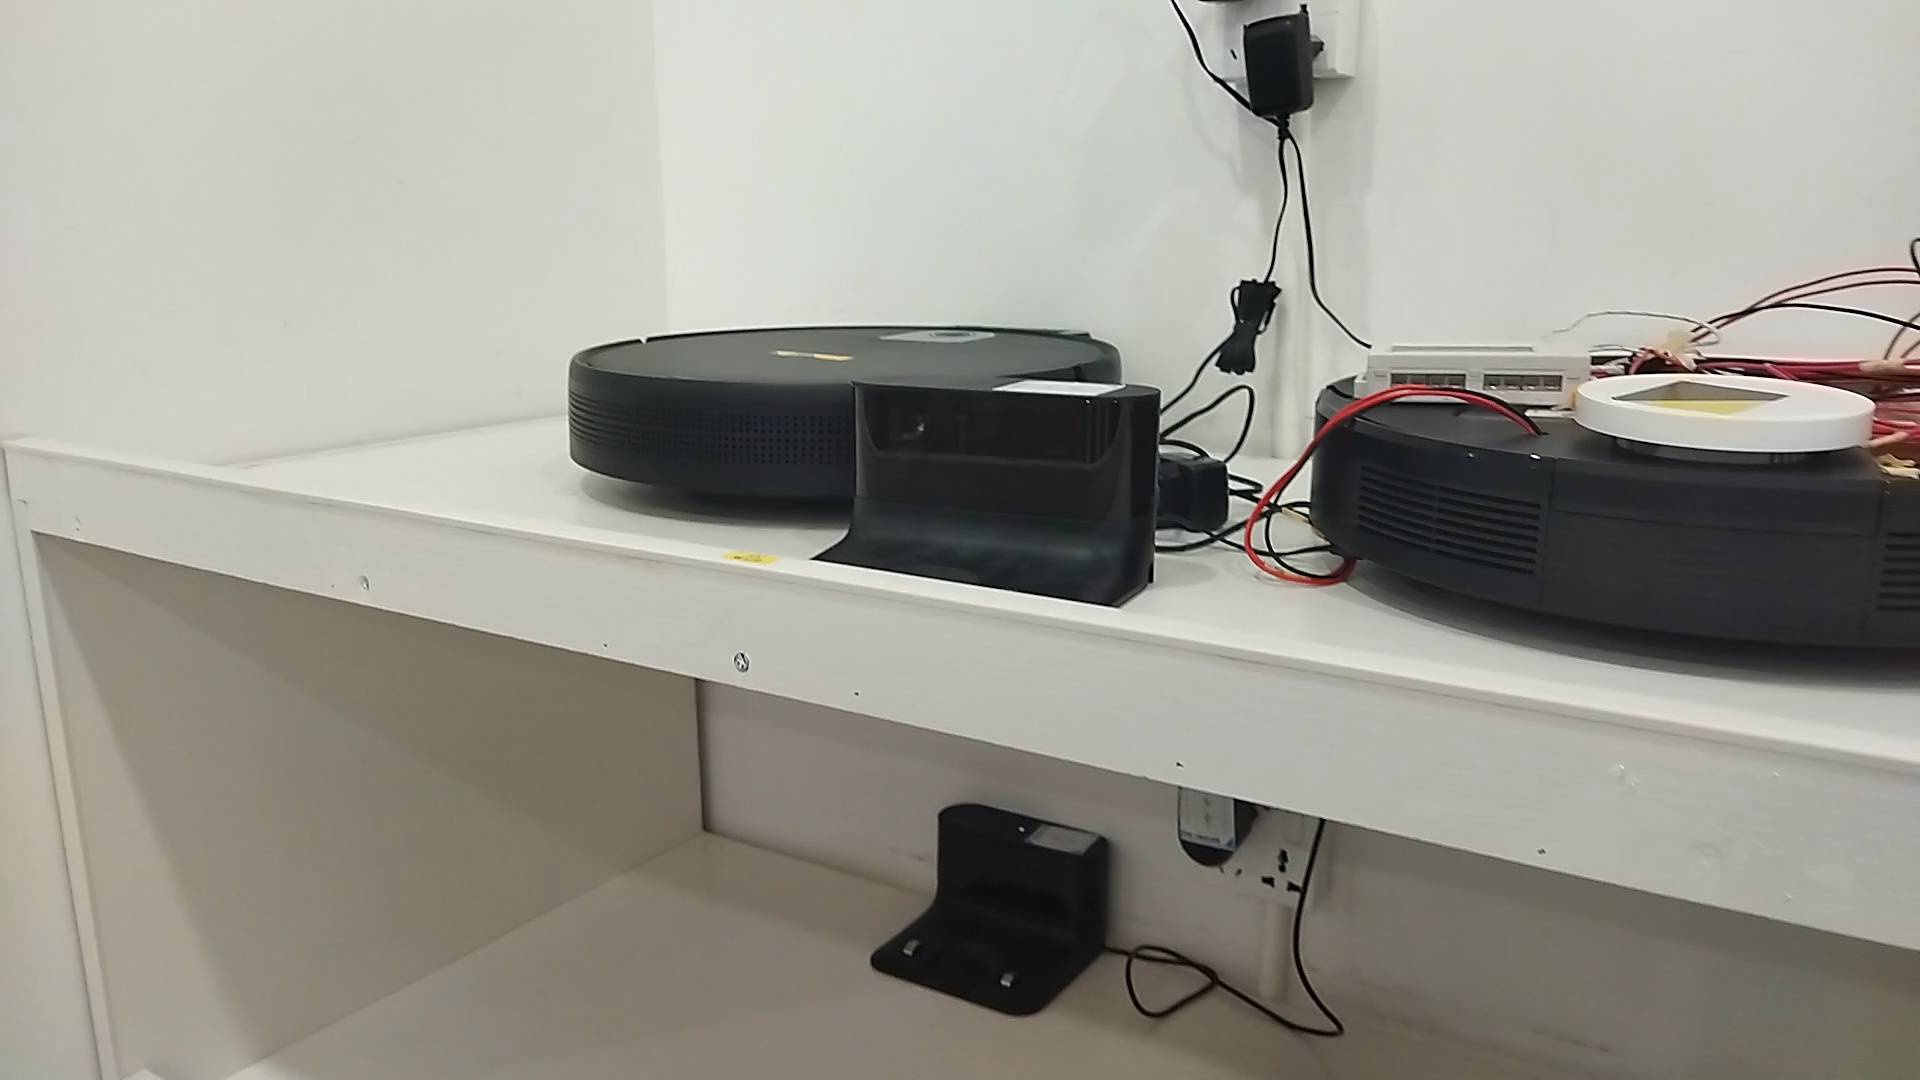recharge seat: (808, 376, 1162, 612), (869, 803, 1116, 1015)
